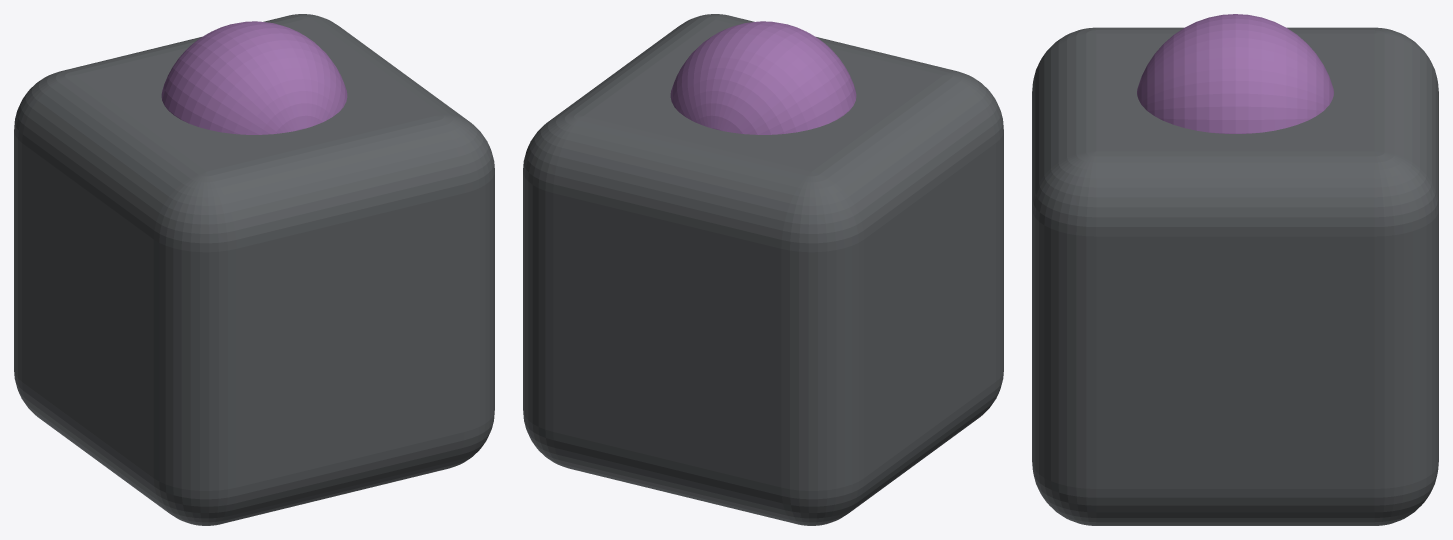
The model's file is Super Migelo.glb.
The picture shows the model from 3 angles, left to right: view 1: azimuth 30°, elevation 25°; view 2: azimuth 150°, elevation 25°; view 3: azimuth 270°, elevation 25°; orthographic projection. The views are drawn at different scales.
Visible parts, largest first — view 1: Mesh_Mesh_head_geo.001_lambert2SG.001; view 2: Mesh_Mesh_head_geo.001_lambert2SG.001; view 3: Mesh_Mesh_head_geo.001_lambert2SG.001.
Part boxes in pixels (x1,y1,x2,y2): Mesh_Mesh_head_geo.001_lambert2SG.001: [14, 14, 494, 525]; Mesh_Mesh_head_geo.001_lambert2SG.001: [523, 14, 1003, 525]; Mesh_Mesh_head_geo.001_lambert2SG.001: [1032, 14, 1438, 525].
Size of the model in its own units: 0.04 by 0.0475 by 0.04.
